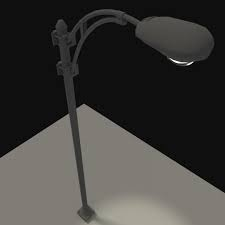Top_Street_Light: (137, 13, 216, 65)
